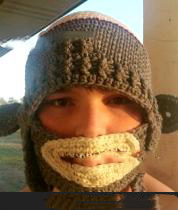face_mask: (34, 52, 144, 188)
